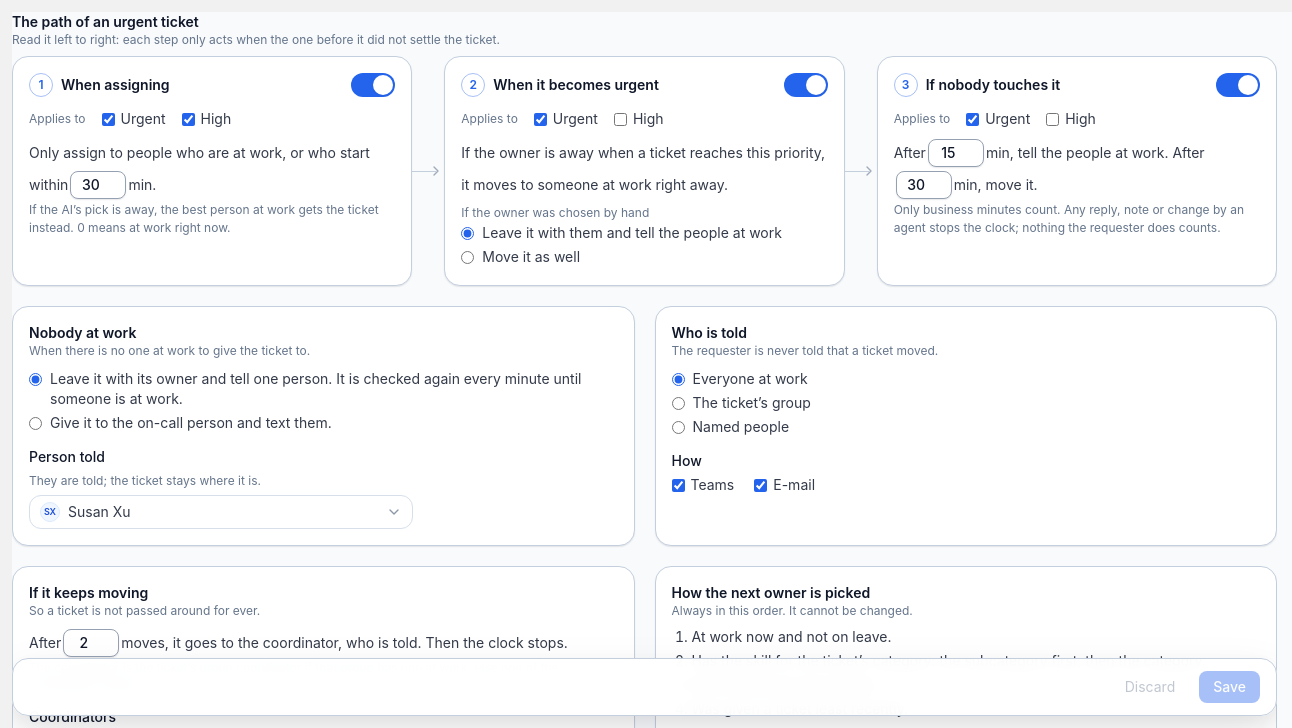
Test case: Urgent response: Rules › Save sends only what changed
The width and height of the screenshot is (1292, 728).
Replace the text in the number field named "Minutes before the people at work are told" with "10" at x=956, y=152, box [928,138,984,166]
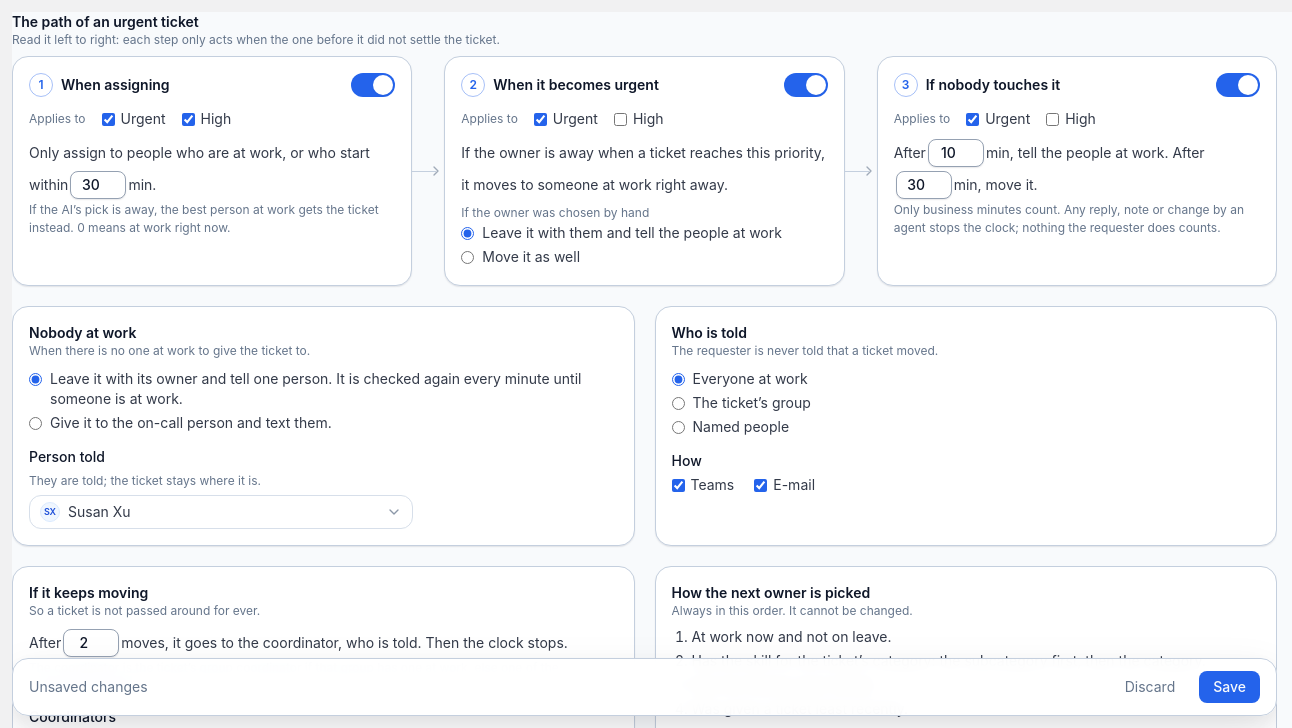
Click the checkbox named "If nobody touches it: applies to High".
click(1053, 119)  # box [1046,112,1059,126]
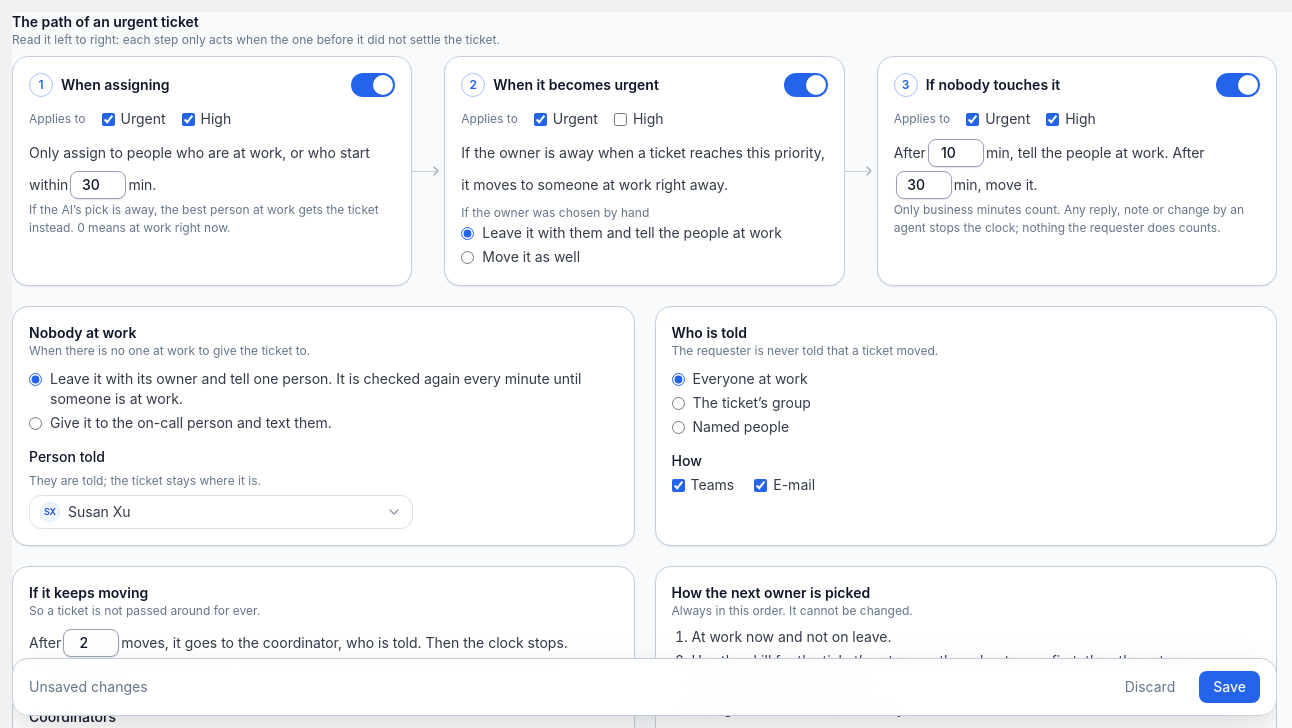
Now the text "Unsaved changes" is shown, box [29,677,148,697]
Click the button "Save".
click(1230, 687)  # box [1199,671,1260,703]
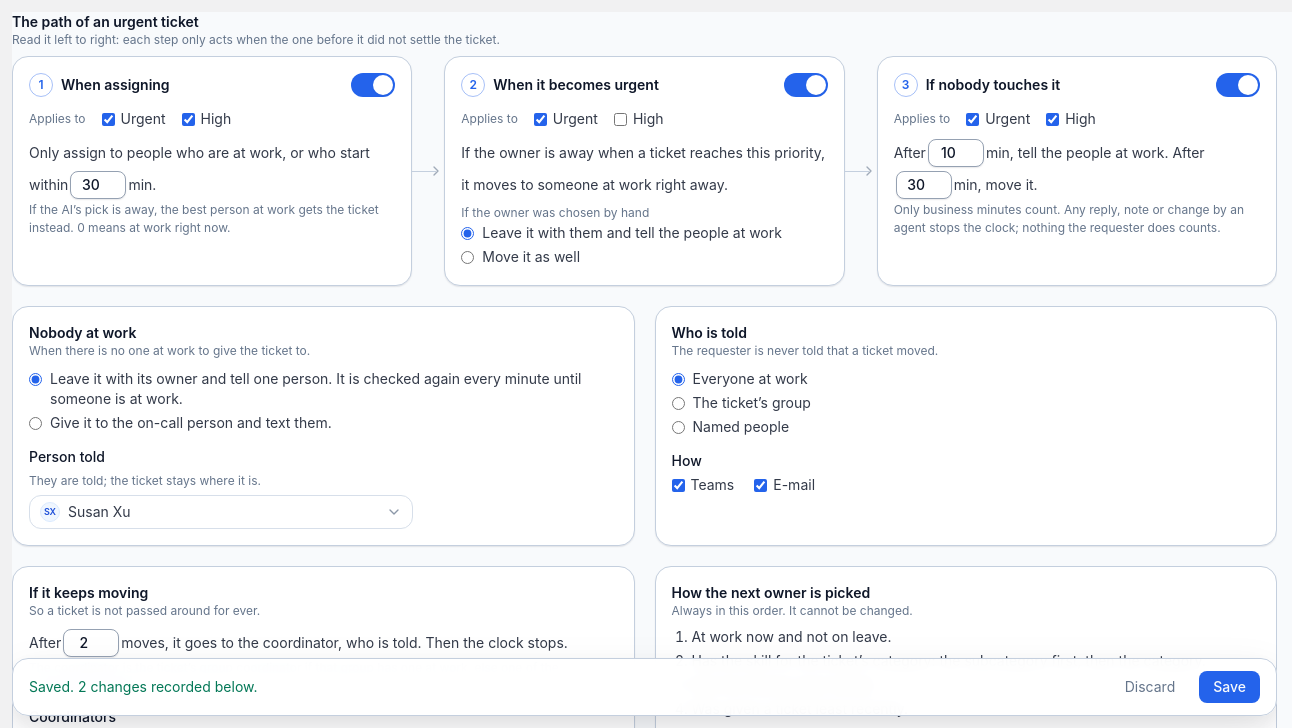
Now the text "Saved. 2 changes recorded below." is shown, box [29,677,258,697]
